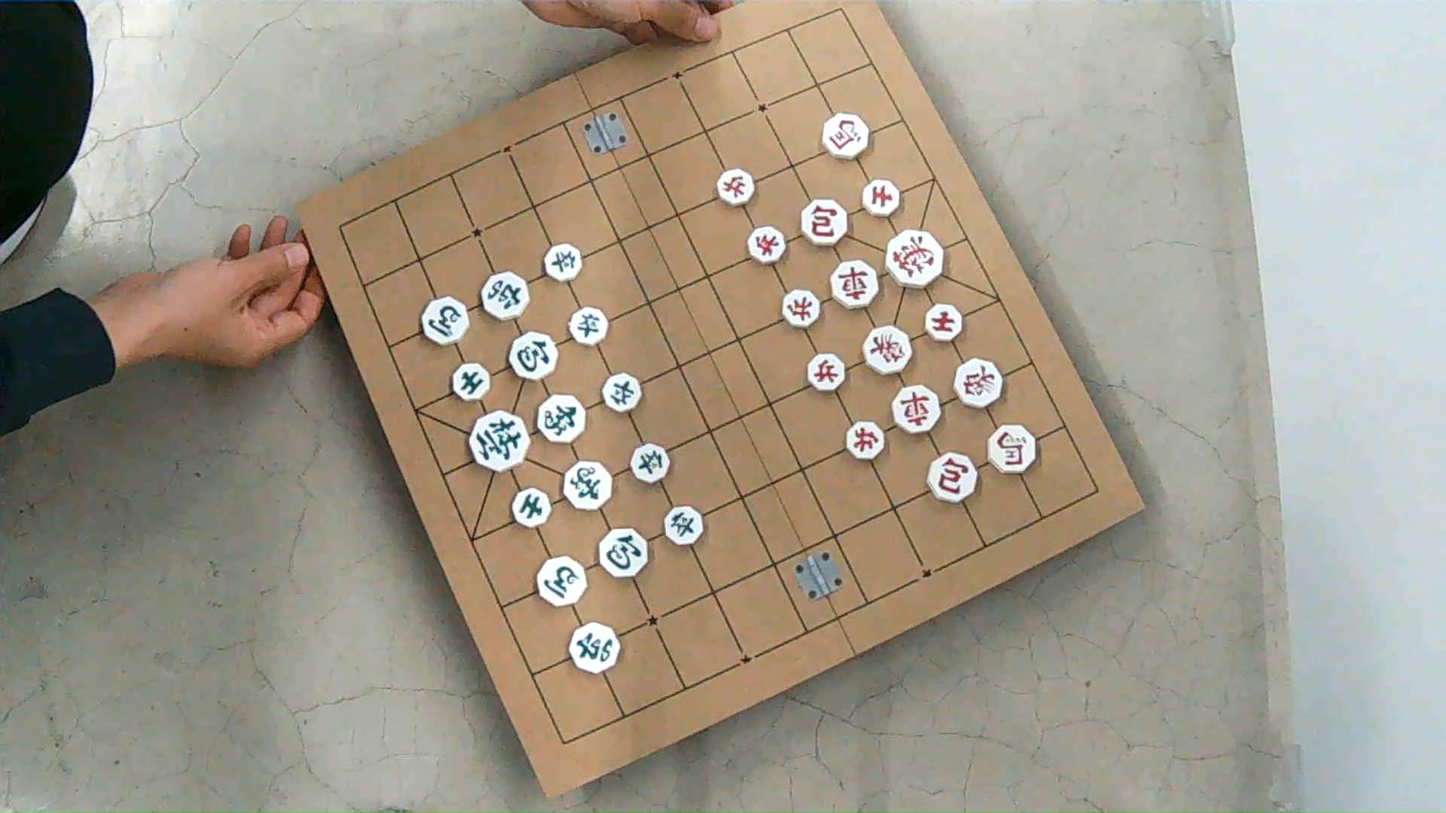cha_green: (571, 623, 620, 672), (482, 272, 529, 320)
cha_red: (892, 385, 940, 434), (831, 260, 879, 309)
jol_green: (602, 373, 642, 412), (569, 307, 608, 346), (664, 506, 703, 545), (631, 443, 669, 483), (544, 243, 581, 281)
jol_red: (846, 422, 885, 460), (782, 290, 820, 328), (717, 169, 755, 206), (807, 354, 845, 391), (748, 227, 785, 263)
ma_green: (538, 557, 587, 606), (421, 297, 468, 345)
ma_red: (988, 425, 1036, 473), (822, 114, 868, 159)
po_green: (599, 528, 648, 578), (509, 332, 557, 379)
po_red: (929, 453, 977, 503), (801, 199, 847, 246)
sa_green: (512, 488, 550, 527), (451, 363, 489, 401)
sa_red: (925, 303, 963, 341), (862, 179, 898, 216)
sang_green: (563, 461, 611, 510), (536, 394, 584, 443)
sang_red: (955, 358, 1003, 408), (864, 327, 912, 374)
wang_green: (470, 410, 529, 471)
wang_red: (886, 230, 943, 288)
